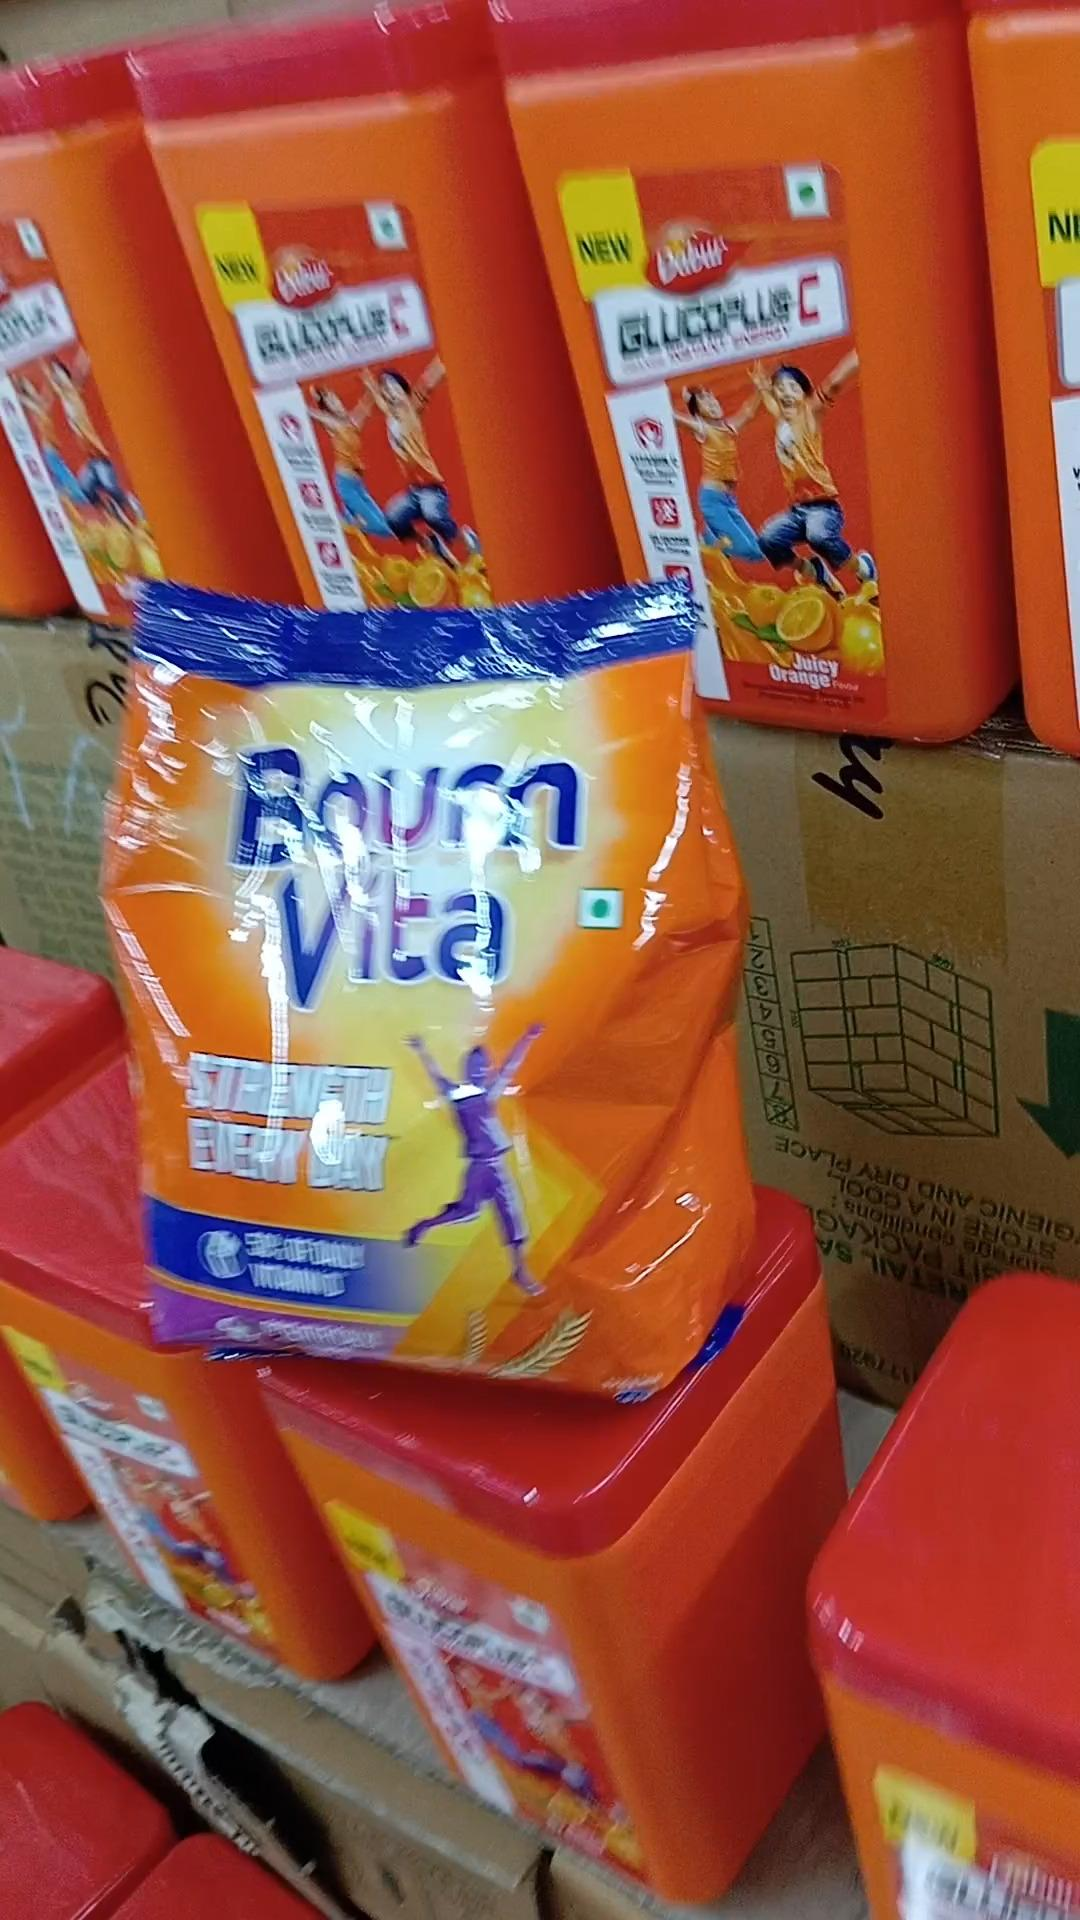BOURN_VITA_500_G_POUCH: (105, 605, 711, 1398)
